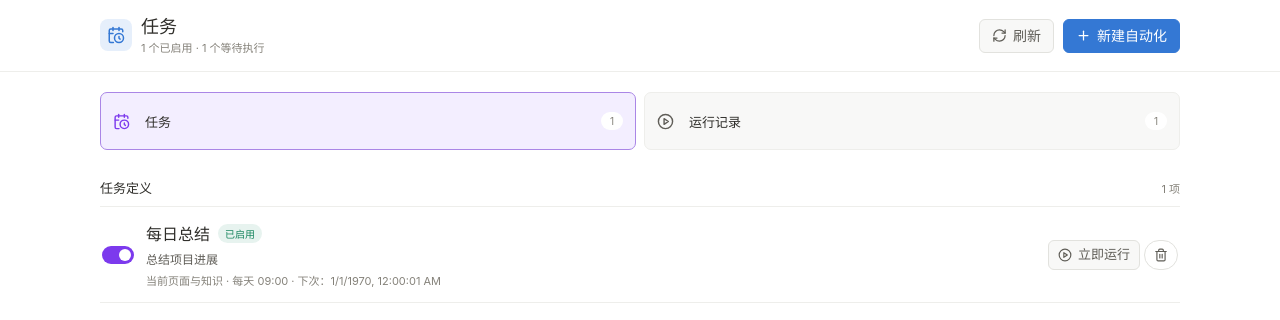
Test: AutomationPage › shows persisted task definitions and queue state
Expected: the header with class "surface-title-bar" shows "任务", [141, 16, 177, 37]
Expected: the element with class "automation-row" shows "每日总结", [146, 224, 210, 244]
Click the tab "运行记录 1": x=715, y=122 [644, 92, 1180, 150]
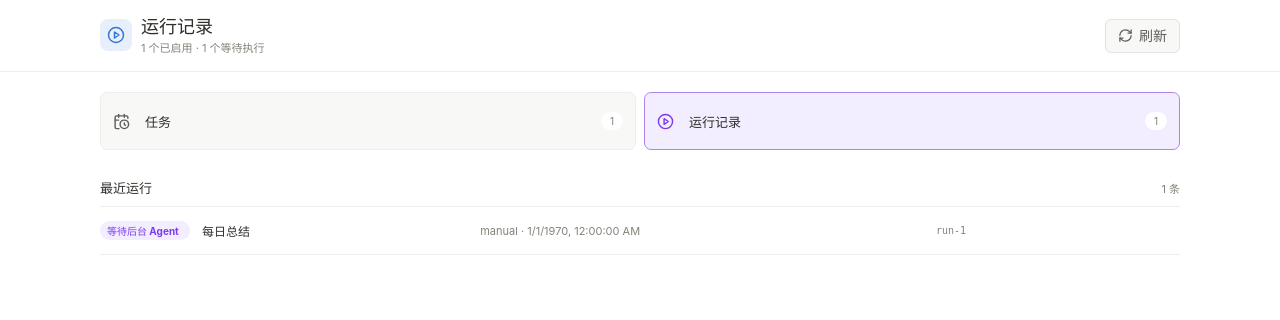
Result: the heading "运行记录" is shown at [141, 16, 213, 37]
Result: the element with class "automation-run-row" shows "等待后台 Agent" at [107, 225, 179, 237]
